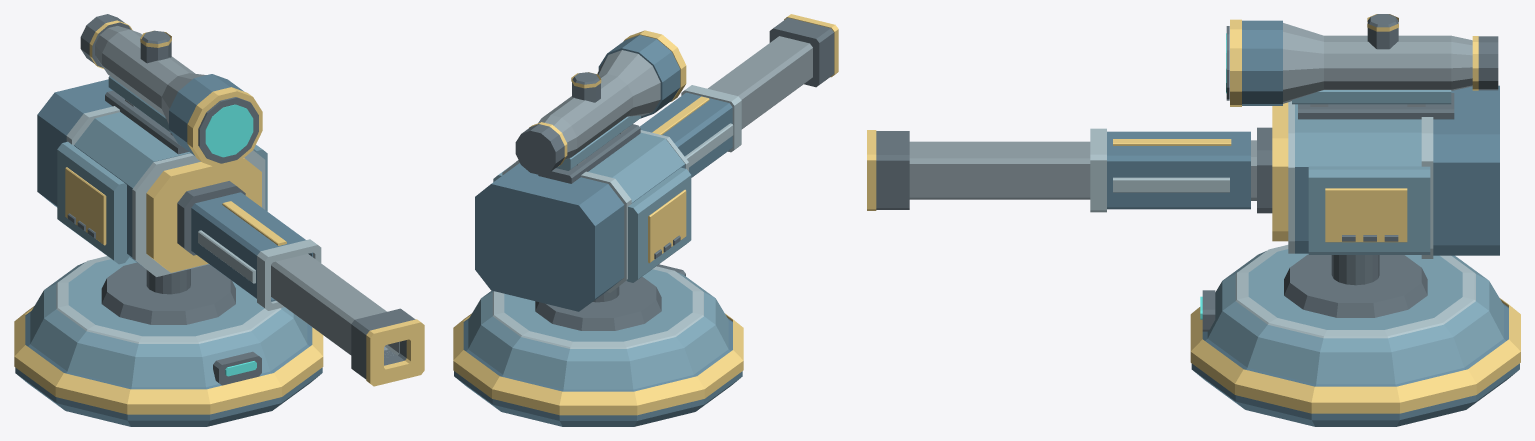
3 views of the same model, side by side, from view 1: azimuth 30°, elevation 25°; view 2: azimuth 150°, elevation 25°; view 3: azimuth 270°, elevation 25° (orthographic). The views are drawn at different scales.
Parts seen in each view (by area): view 1: RearCasing, PrecisionTurret_Base; view 2: RearCasing, PrecisionTurret_Base; view 3: RearCasing, PrecisionTurret_Base.
Boxes of the visible parts, box(x1,y1,x2,y2) form: RearCasing: box(37, 14, 424, 386); PrecisionTurret_Base: box(14, 256, 323, 426); RearCasing: box(475, 14, 838, 311); PrecisionTurret_Base: box(453, 264, 743, 426); RearCasing: box(867, 14, 1499, 258); PrecisionTurret_Base: box(1190, 245, 1520, 426).
Size of the model in its own units: 2.18 by 2.5 by 4.31.
